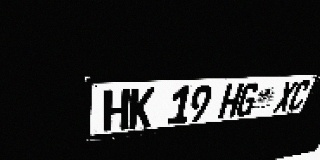1: (167, 86, 194, 125)
9: (187, 85, 214, 122)
C: (286, 80, 312, 111)
G: (234, 82, 261, 117)
H: (103, 89, 130, 132), (217, 83, 244, 119)
K: (128, 87, 155, 129)
X: (273, 81, 299, 113)
